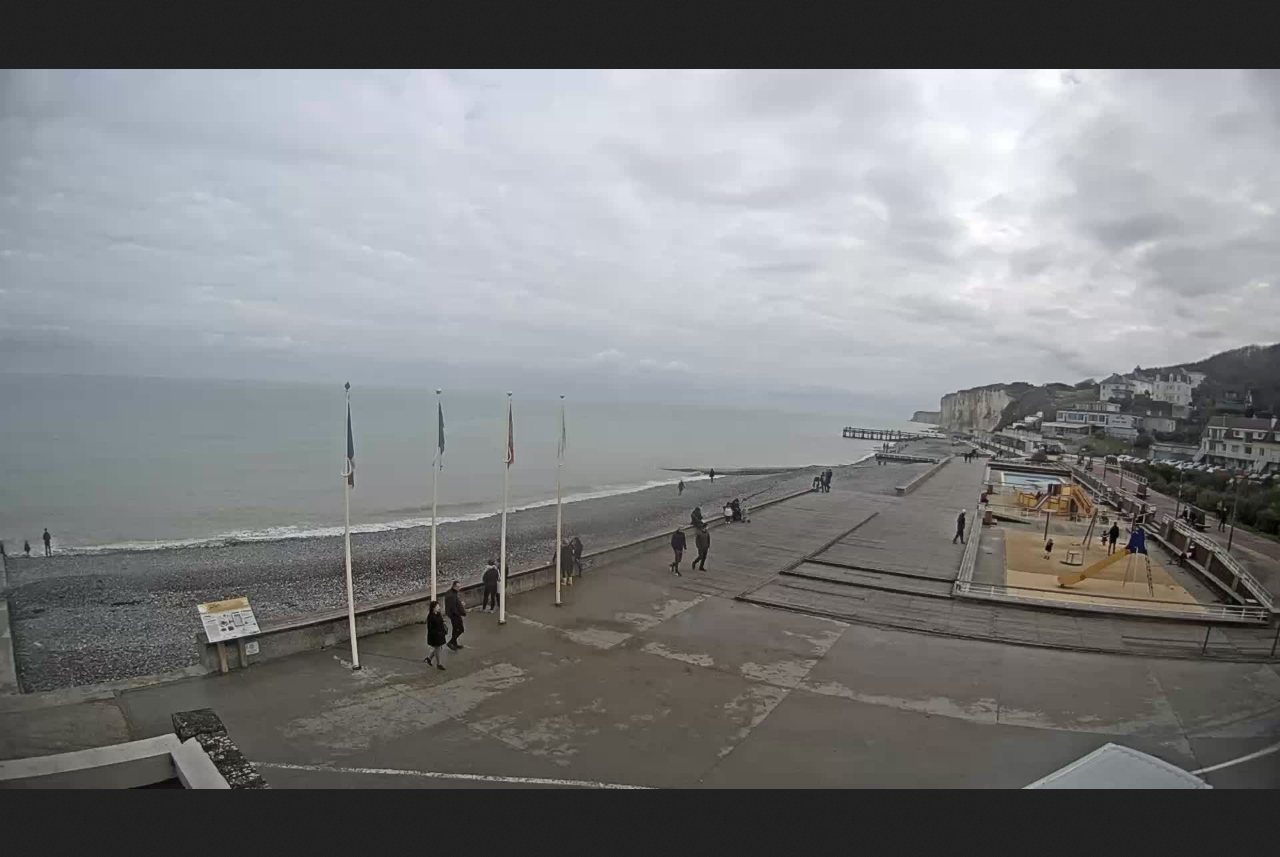no: (341, 397, 362, 491), (502, 400, 520, 476), (436, 404, 448, 459), (557, 402, 568, 457)
